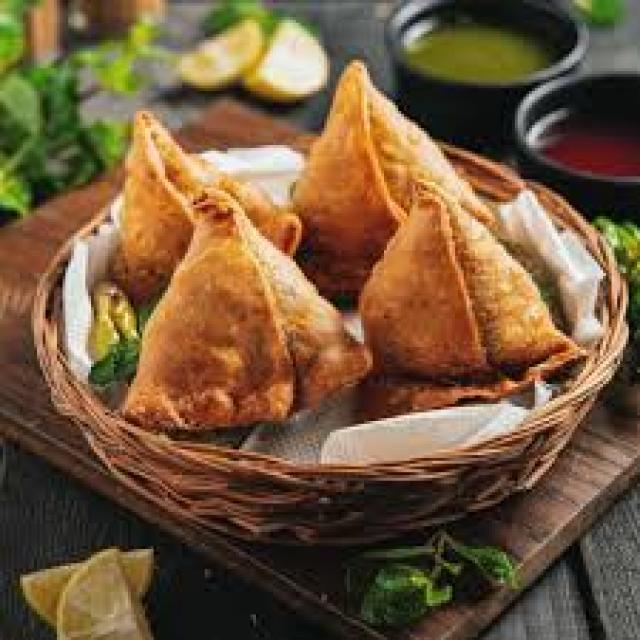SAMOSA: (128, 183, 371, 428), (355, 183, 585, 400), (289, 65, 486, 309), (109, 106, 303, 321)
